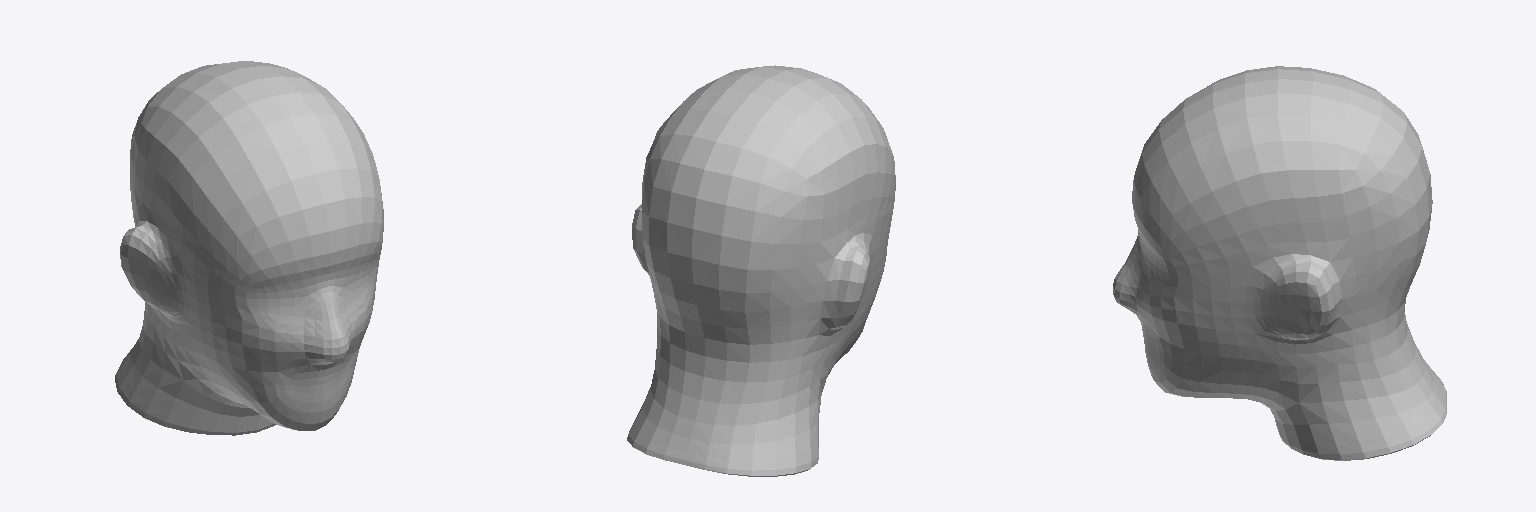
File: mannequin-head-001.obj
3 views of the same model, side by side, from view 1: azimuth 30°, elevation 25°; view 2: azimuth 150°, elevation 25°; view 3: azimuth 270°, elevation 25° (orthographic).
Visible parts, largest first — view 1: Busto; view 2: Busto; view 3: Busto.
Part boxes in pixels (x1,y1,x2,y2): Busto: (115,61,383,435); Busto: (627,65,895,476); Busto: (1113,66,1446,460).
Bounding box in the file's own units: 0.187 × 0.273 × 0.2339.